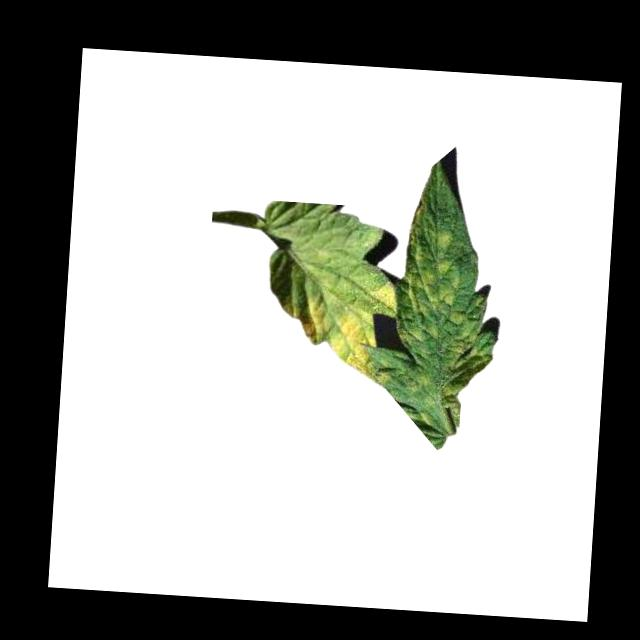Leaf_Mold: (395, 194, 492, 350), (280, 269, 397, 386), (434, 327, 493, 431)
